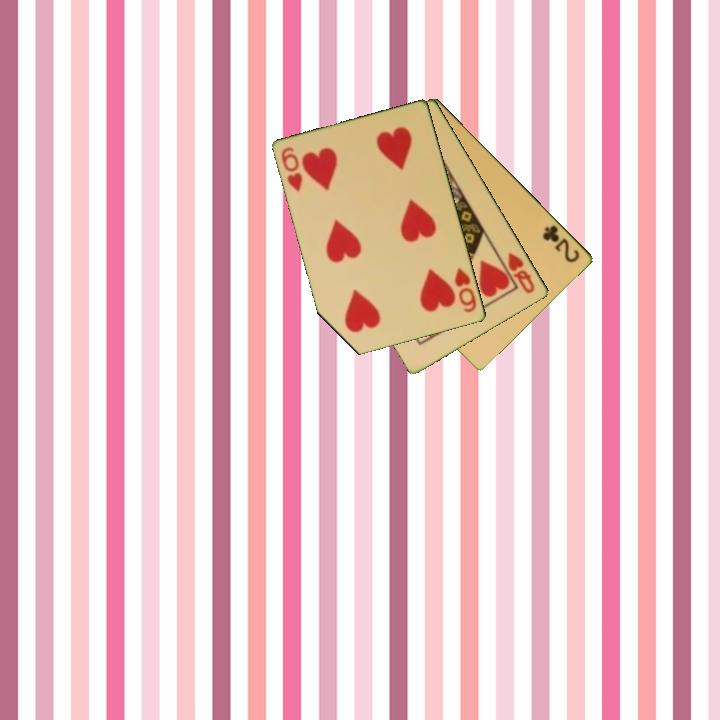2c: (539, 221, 583, 266)
6h: (451, 264, 480, 316), (278, 143, 306, 195)
Qh: (505, 249, 538, 296)
